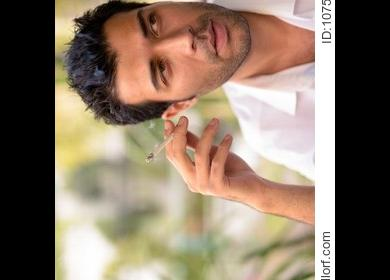Cigarette: (144, 126, 180, 161)
